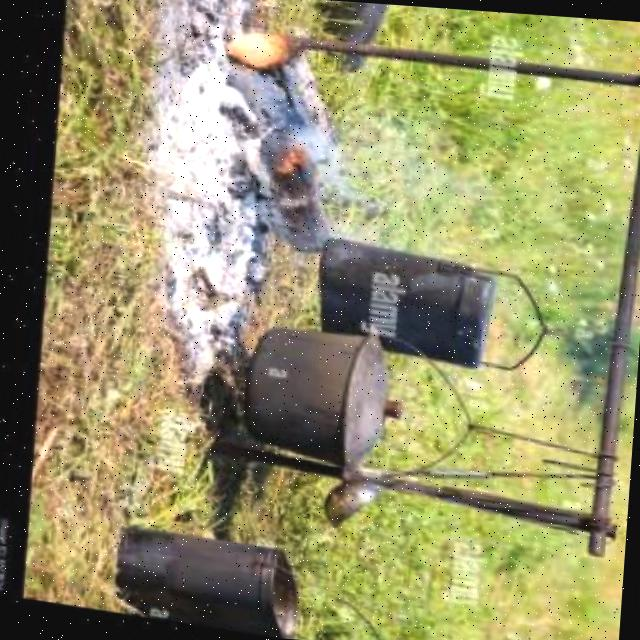fire: (264, 134, 320, 198)
